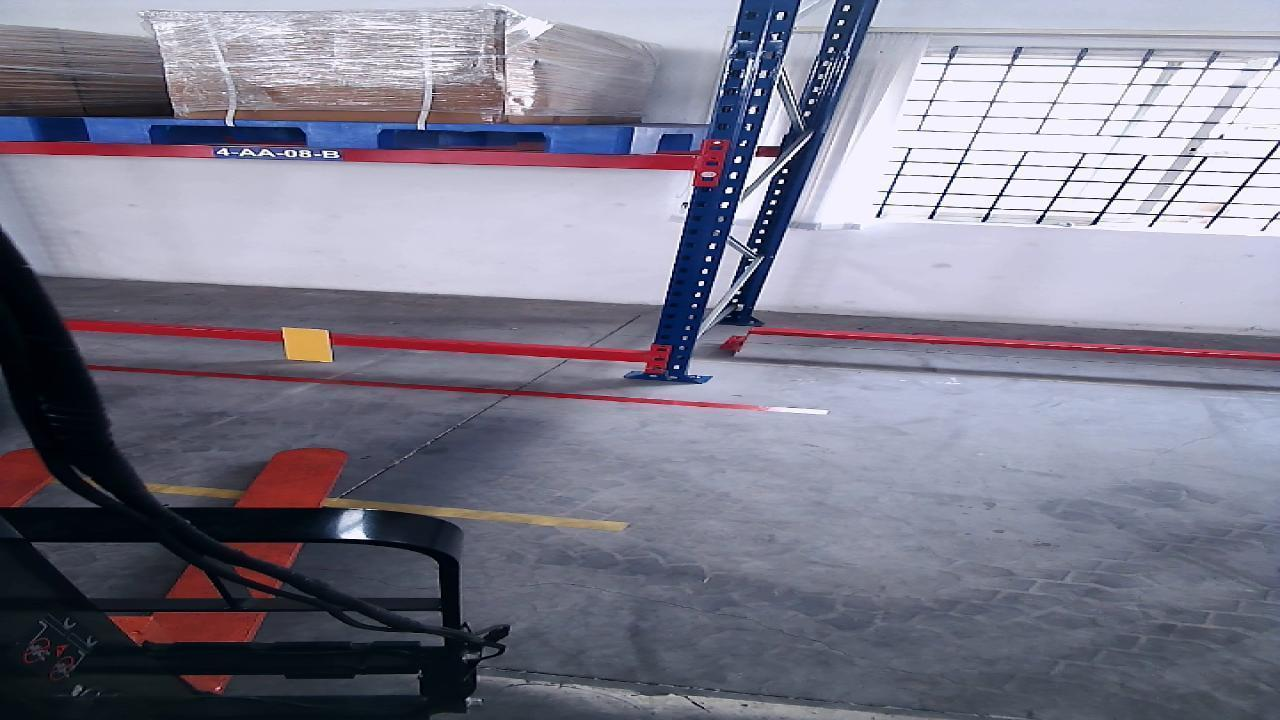red_line: (90, 364, 827, 415)
yellow_line: (149, 480, 632, 535)
